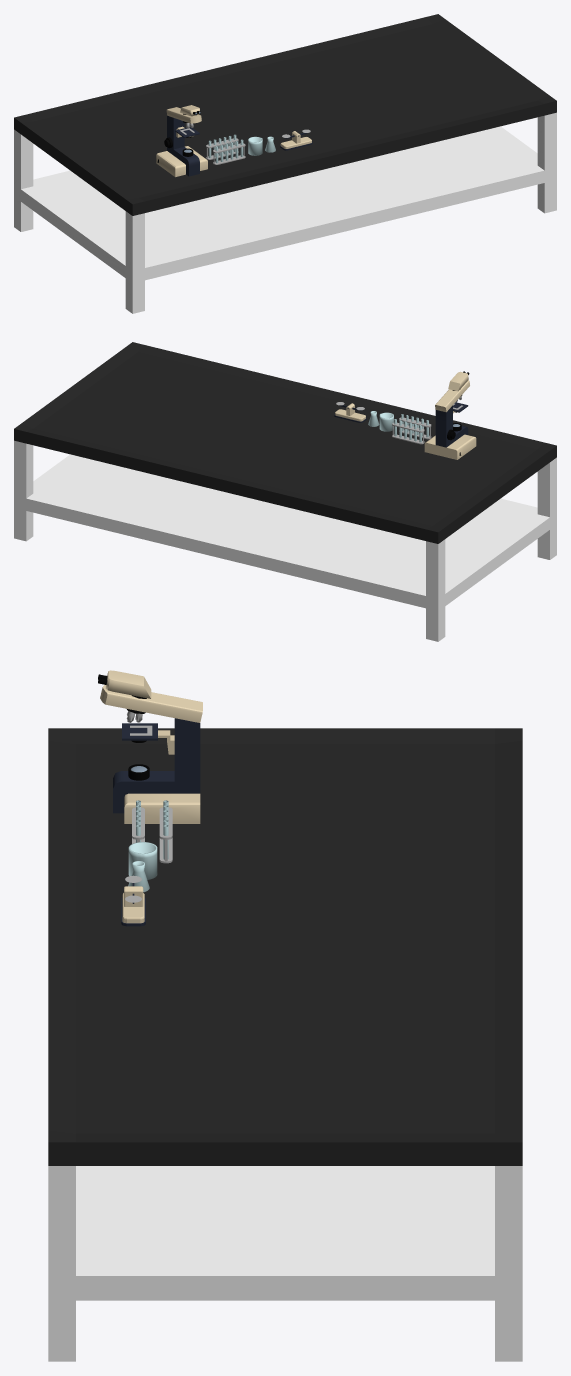
File: LAB More Assets.fbx
3 renders of one model, top to bottom at view 1: azimuth 30°, elevation 25°; view 2: azimuth 150°, elevation 25°; view 3: azimuth 270°, elevation 25°, orthographic. The views are drawn at different scales.
Visible parts, largest first — view 1: bancada.003, Micro, Balanca, Cylinder.001; view 2: bancada.003, Micro, Balanca; view 3: bancada.003, Micro, Balanca, Cylinder.002.
Boxes of the visible parts, x1,y1,x2,y2 form: bancada.003: (14, 14, 556, 313); Micro: (156, 105, 207, 177); Balanca: (280, 129, 312, 150); Cylinder.001: (215, 139, 243, 163); bancada.003: (14, 342, 556, 641); Micro: (424, 371, 476, 459); Balanca: (334, 402, 366, 422); bancada.003: (48, 728, 522, 1361); Micro: (98, 670, 202, 823); Balanca: (121, 875, 145, 926); Cylinder.002: (128, 842, 157, 879).
Bounding box in the file's own units: 908 × 357 × 440.
